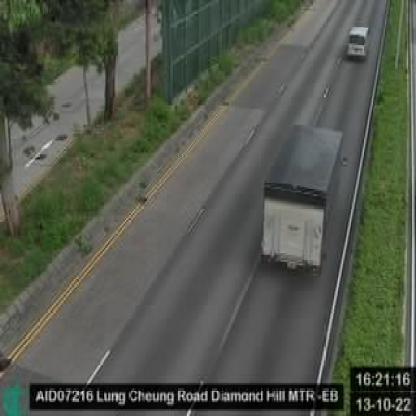Car: (346, 22, 370, 61)
Truck: (259, 127, 343, 276)
